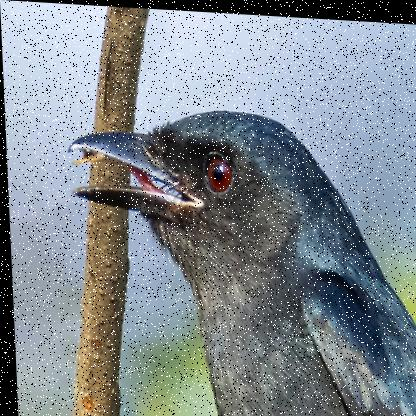Burung: (57, 96, 415, 415)
